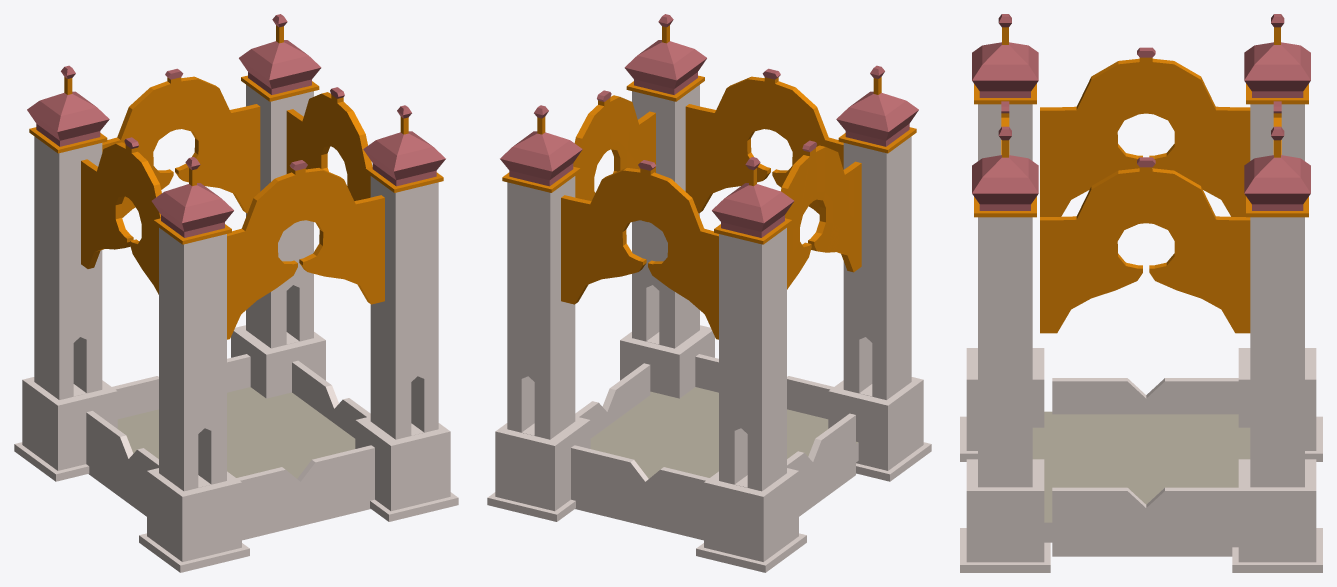
3 renders of one model, left to right at view 1: azimuth 30°, elevation 25°; view 2: azimuth 150°, elevation 25°; view 3: azimuth 270°, elevation 25°, orthographic. The views are drawn at different scales.
Parts seen in each view (by area): view 1: BuldinG_3; view 2: BuldinG_3; view 3: BuldinG_3.
Part boxes in pixels (x1,y1,x2,y2): BuldinG_3: (14,14,458,572); BuldinG_3: (487,14,931,572); BuldinG_3: (960,14,1322,572).
Bounding box in the file's own units: 622 × 839 × 644.
